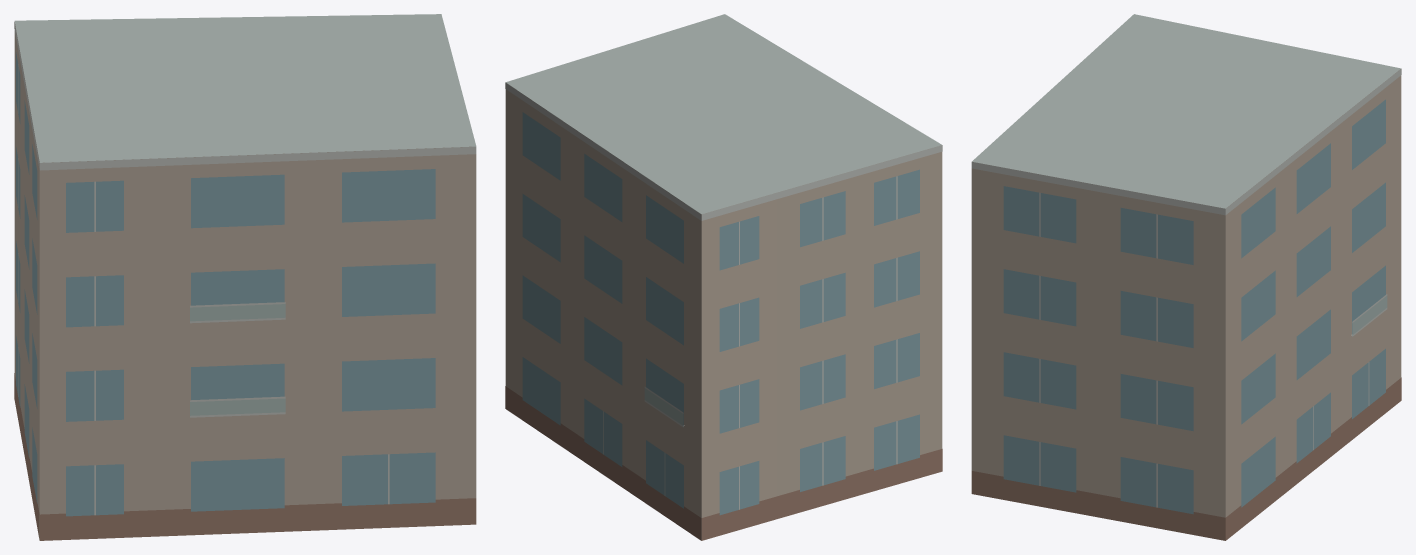
Rendered from survey-upis-32629937.glb.
The picture shows the model from 3 angles, left to right: view 1: azimuth 30°, elevation 25°; view 2: azimuth 150°, elevation 25°; view 3: azimuth 270°, elevation 25°; orthographic projection. The views are drawn at different scales.
Visible parts, largest first — view 1: survey-upis-32629937.tmp; view 2: survey-upis-32629937.tmp; view 3: survey-upis-32629937.tmp.
Part boxes in pixels (<box>): survey-upis-32629937.tmp: <box>14,14,476,540</box>; survey-upis-32629937.tmp: <box>505,14,942,540</box>; survey-upis-32629937.tmp: <box>971,14,1401,540</box>.
Bounding box in the file's own units: 15.21 × 12.1 × 14.2.
